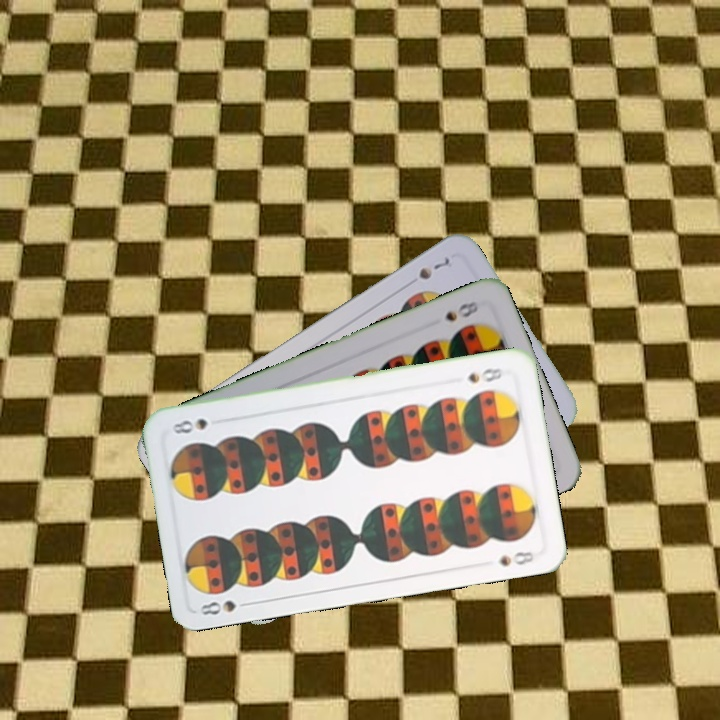S7: (414, 254, 453, 283)
S8: (196, 596, 255, 618), (440, 297, 481, 324), (464, 364, 507, 386)
